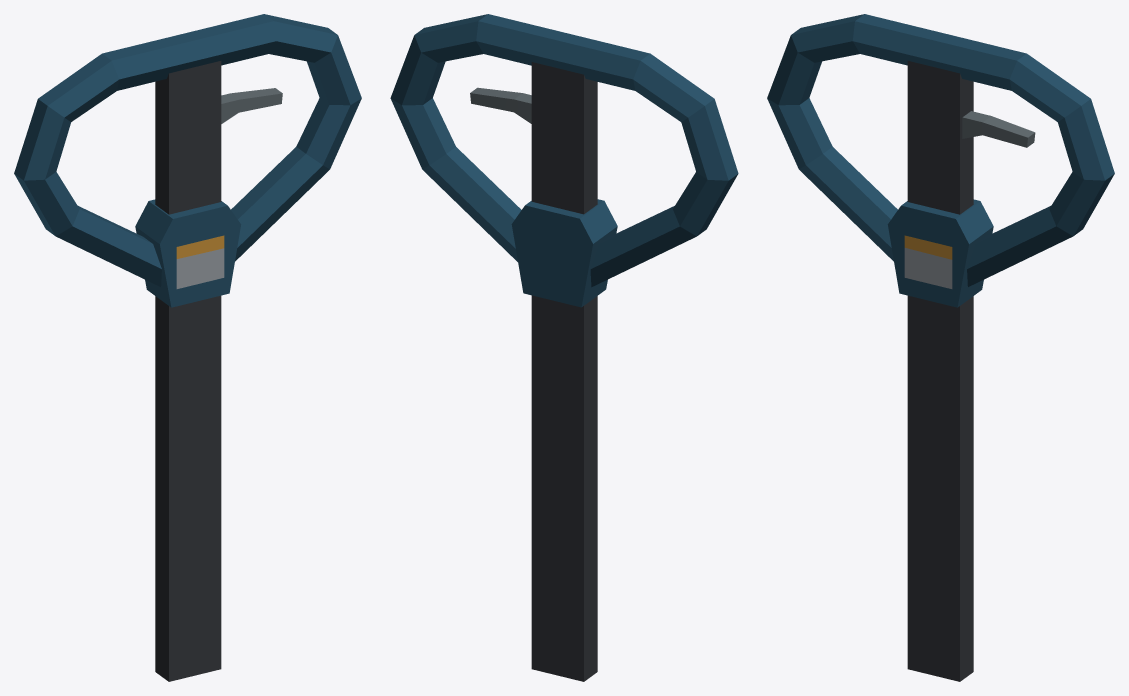
Rendered from SM_Prop_Warehouse_Pallet_Jack_01_Pivot_01_Handle_01.obj.
3 views of the same model, side by side, from view 1: azimuth 30°, elevation 25°; view 2: azimuth 150°, elevation 25°; view 3: azimuth 330°, elevation 25° (orthographic).
Visible parts, largest first — view 1: SM_Prop_Warehouse_Pallet_Jack_01_Pivot_01_Handle_01_0; view 2: SM_Prop_Warehouse_Pallet_Jack_01_Pivot_01_Handle_01_0; view 3: SM_Prop_Warehouse_Pallet_Jack_01_Pivot_01_Handle_01_0.
Part boxes in pixels (box(x1,y1,x2,y2)): SM_Prop_Warehouse_Pallet_Jack_01_Pivot_01_Handle_01_0: box(14, 14, 361, 681); SM_Prop_Warehouse_Pallet_Jack_01_Pivot_01_Handle_01_0: box(390, 14, 738, 681); SM_Prop_Warehouse_Pallet_Jack_01_Pivot_01_Handle_01_0: box(767, 14, 1114, 681).
Size of the model in its own units: 0.5239 by 0.9373 by 0.0659.
Materials: 1 (1 with a texture image).
